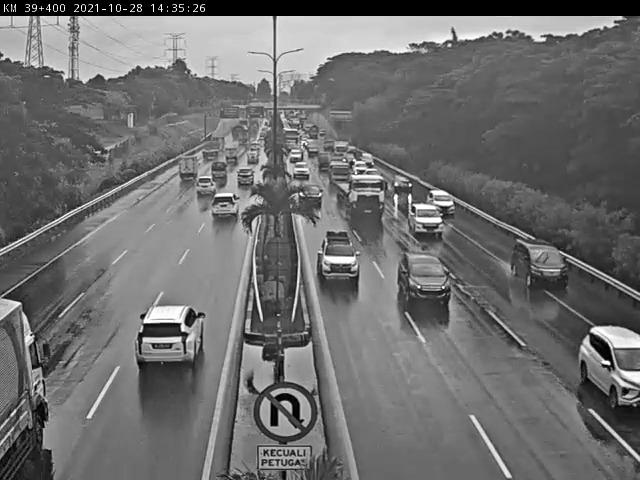big truck: (0, 292, 67, 480), (338, 168, 388, 221)
car: (117, 296, 212, 384), (555, 320, 640, 411), (392, 240, 458, 310), (506, 233, 580, 290), (316, 223, 366, 289), (403, 193, 435, 237), (211, 186, 243, 225), (422, 184, 457, 215), (298, 174, 327, 204), (233, 167, 260, 195), (389, 170, 418, 195), (192, 172, 215, 203)
small truck: (172, 150, 206, 187)
